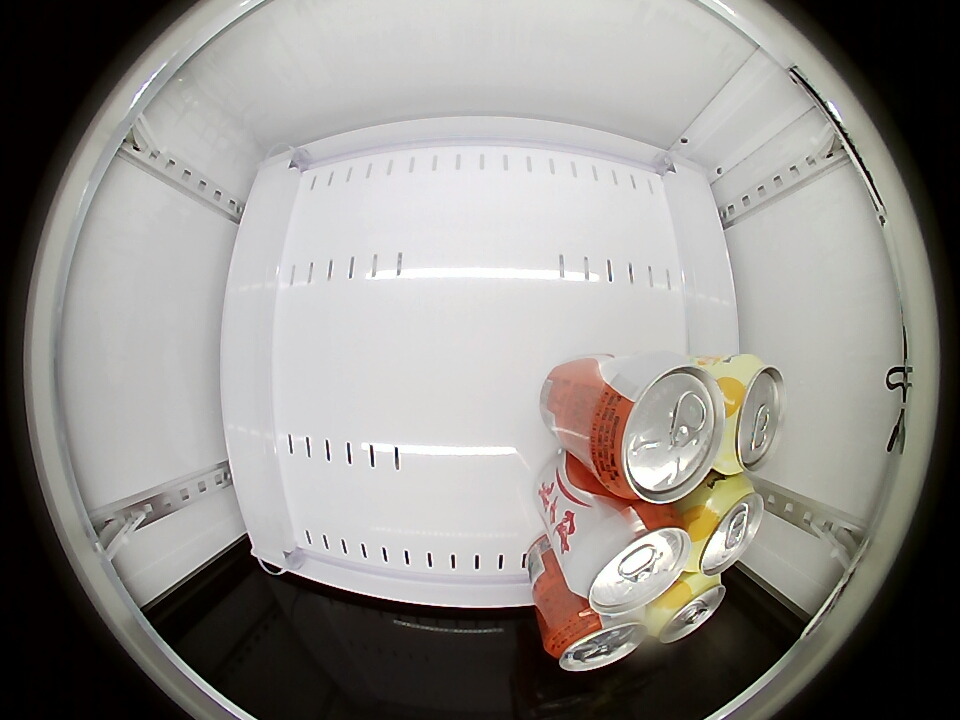jianlibao: (590, 360, 725, 504), (567, 505, 691, 616), (546, 609, 646, 671)
mangguoxiaolao: (714, 355, 785, 476), (686, 477, 765, 575), (647, 573, 726, 644)
